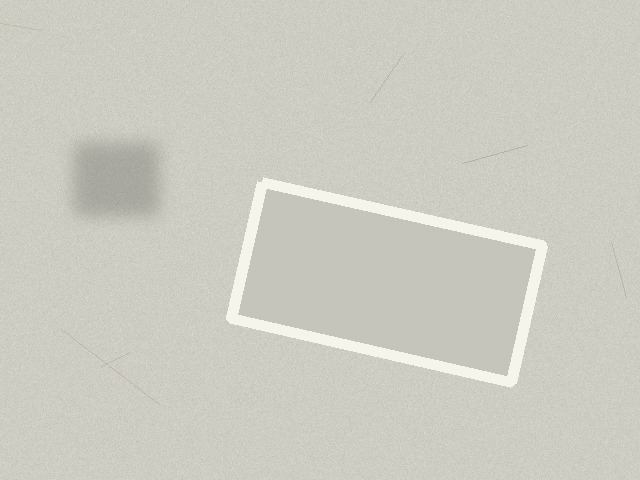parking_area: (231, 182, 542, 382)
